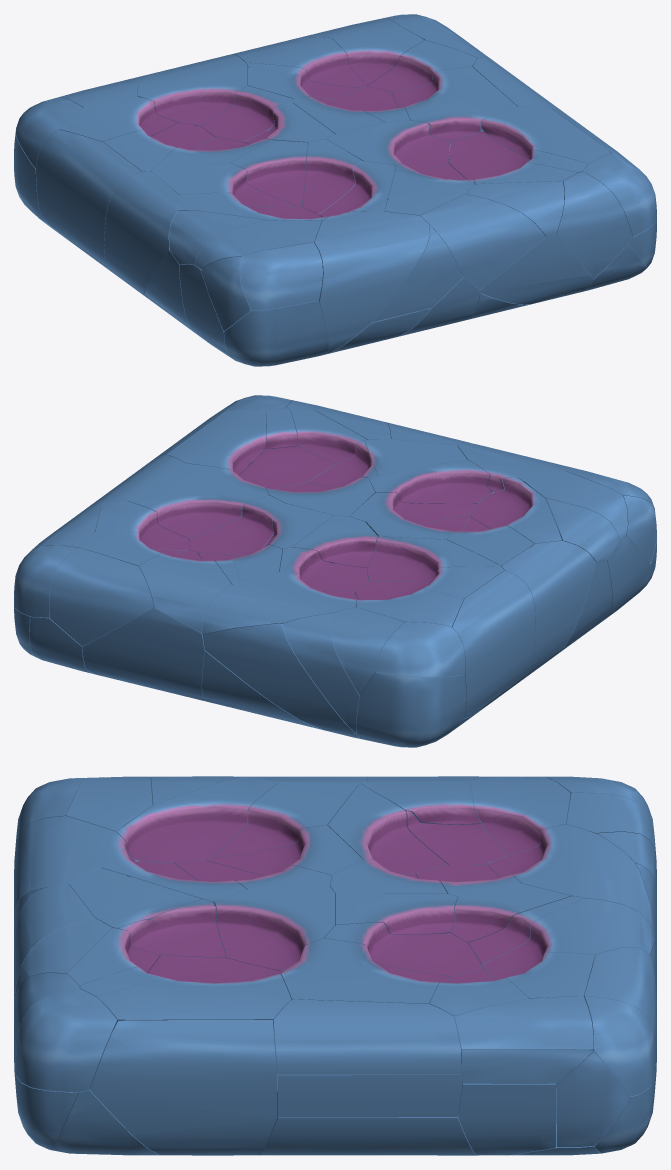
File: arena block 3 broken.fbx
The picture shows the model from 3 angles, top to bottom: view 1: azimuth 30°, elevation 25°; view 2: azimuth 150°, elevation 25°; view 3: azimuth 270°, elevation 25°; orthographic projection. The views are drawn at different scales.
Parts seen in each view (by area): view 1: arena block 3 lp_cell, arena block 3 lp_cell.044, arena block 3 lp_cell.012, arena block 3 lp_cell.081, arena block 3 lp_cell.020, arena block 3 lp_cell.059, arena block 3 lp_cell.056, arena block 3 lp_cell.004, arena block 3 lp_cell.096, arena block 3 lp_cell.049, arena block 3 lp_cell.061, arena block 3 lp_cell.086 (+42 smaller); view 2: arena block 3 lp_cell.044, arena block 3 lp_cell.032, arena block 3 lp_cell.082, arena block 3 lp_cell.093, arena block 3 lp_cell.098, arena block 3 lp_cell.081, arena block 3 lp_cell.020, arena block 3 lp_cell.056, arena block 3 lp_cell.001, arena block 3 lp_cell.061, arena block 3 lp_cell.052, arena block 3 lp_cell.008 (+40 smaller); view 3: arena block 3 lp_cell.065, arena block 3 lp_cell.074, arena block 3 lp_cell.069, arena block 3 lp_cell.040, arena block 3 lp_cell.035, arena block 3 lp_cell.086, arena block 3 lp_cell.056, arena block 3 lp_cell.007, arena block 3 lp_cell.020, arena block 3 lp_cell.061, arena block 3 lp_cell.047, arena block 3 lp_cell.002 (+43 smaller).
Boxes of the visible parts, x1,y1,x2,y2 form: arena block 3 lp_cell: [314, 211, 429, 353]; arena block 3 lp_cell.044: [36, 130, 141, 272]; arena block 3 lp_cell.012: [420, 194, 545, 289]; arena block 3 lp_cell.081: [104, 171, 179, 297]; arena block 3 lp_cell.020: [391, 66, 517, 143]; arena block 3 lp_cell.059: [224, 300, 328, 366]; arena block 3 lp_cell.056: [137, 54, 247, 125]; arena block 3 lp_cell.004: [555, 171, 632, 278]; arena block 3 lp_cell.096: [239, 242, 322, 310]; arena block 3 lp_cell.049: [479, 234, 592, 304]; arena block 3 lp_cell.061: [481, 106, 610, 163]; arena block 3 lp_cell.086: [326, 120, 450, 171]; arena block 3 lp_cell.044: [452, 570, 535, 718]; arena block 3 lp_cell.032: [82, 608, 204, 700]; arena block 3 lp_cell.082: [202, 623, 360, 738]; arena block 3 lp_cell.093: [49, 547, 153, 646]; arena block 3 lp_cell.098: [356, 672, 466, 747]; arena block 3 lp_cell.081: [501, 541, 596, 680]; arena block 3 lp_cell.020: [127, 463, 268, 540]; arena block 3 lp_cell.056: [202, 572, 357, 634]; arena block 3 lp_cell.001: [139, 550, 231, 634]; arena block 3 lp_cell.061: [167, 409, 266, 475]; arena block 3 lp_cell.052: [376, 622, 465, 677]; arena block 3 lp_cell.008: [283, 613, 359, 733]; arena block 3 lp_cell.065: [90, 1020, 277, 1155]; arena block 3 lp_cell.074: [273, 999, 461, 1074]; arena block 3 lp_cell.069: [278, 1063, 462, 1117]; arena block 3 lp_cell.040: [16, 989, 116, 1092]; arena block 3 lp_cell.035: [116, 777, 278, 862]; arena block 3 lp_cell.086: [215, 886, 335, 972]; arena block 3 lp_cell.056: [486, 824, 654, 937]; arena block 3 lp_cell.007: [260, 1091, 476, 1155]; arena block 3 lp_cell.020: [280, 938, 451, 1003]; arena block 3 lp_cell.061: [97, 973, 291, 1029]; arena block 3 lp_cell.047: [458, 1081, 555, 1155]; arena block 3 lp_cell.002: [454, 996, 593, 1050].
Size of the model in its own units: 200 by 49.89 by 200.
